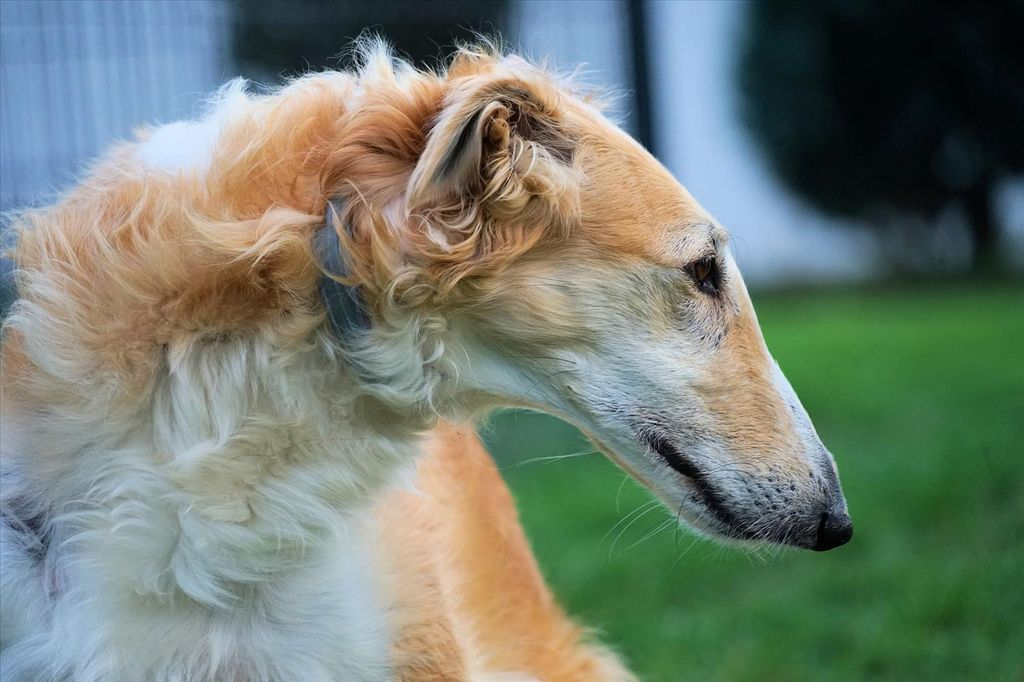borzoi: (1, 46, 920, 682)
